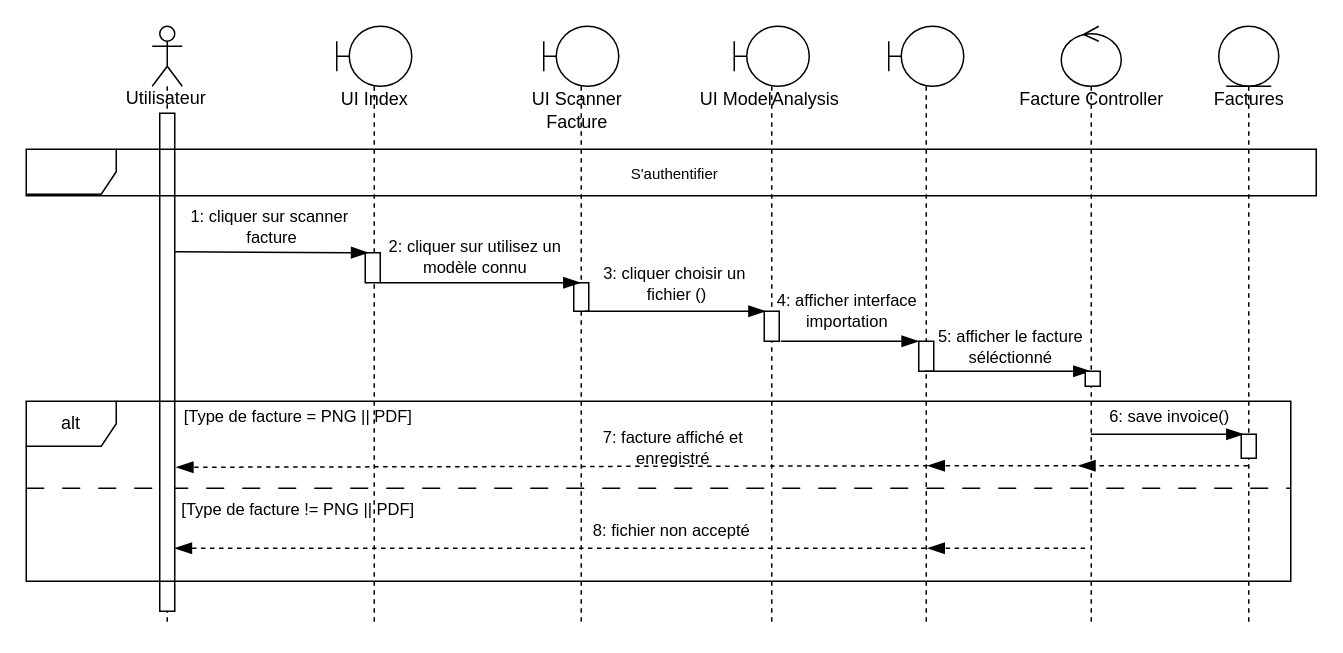
The diagram is 1343 pixels wide and 653 high, and some of its shapes have lost their labels. Each missing label, with the box of its shape:
Ref: (25, 148, 1316, 196)
UI Importation: (887, 25, 964, 626)
